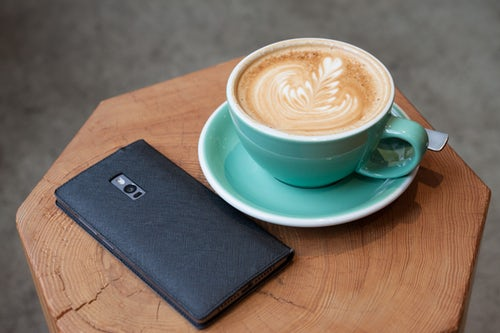phone: (49, 138, 304, 324)
